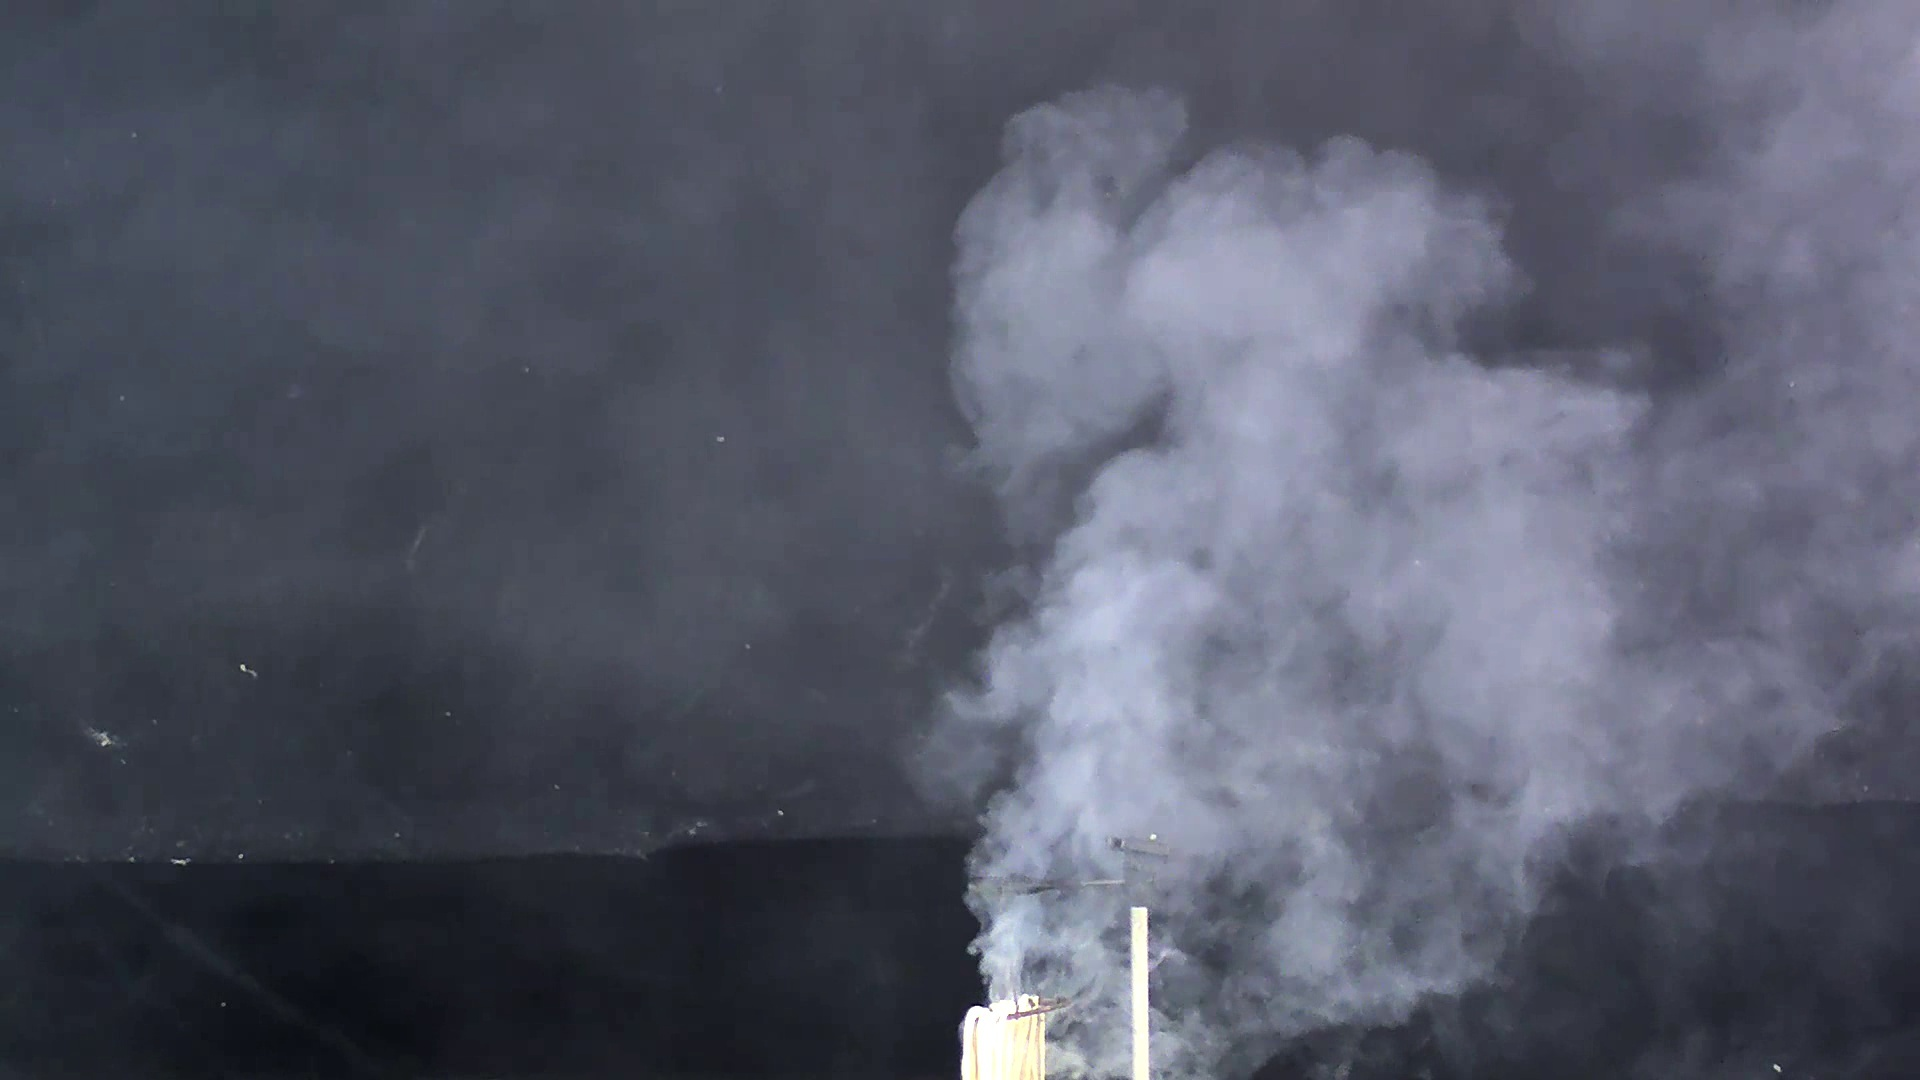smoke: (920, 84, 1679, 1062)
